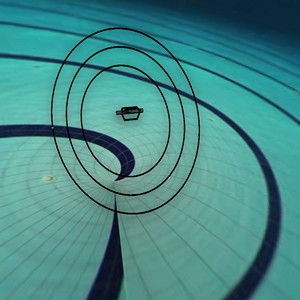circle: (45, 19, 218, 233)
submarine: (102, 98, 159, 137)
